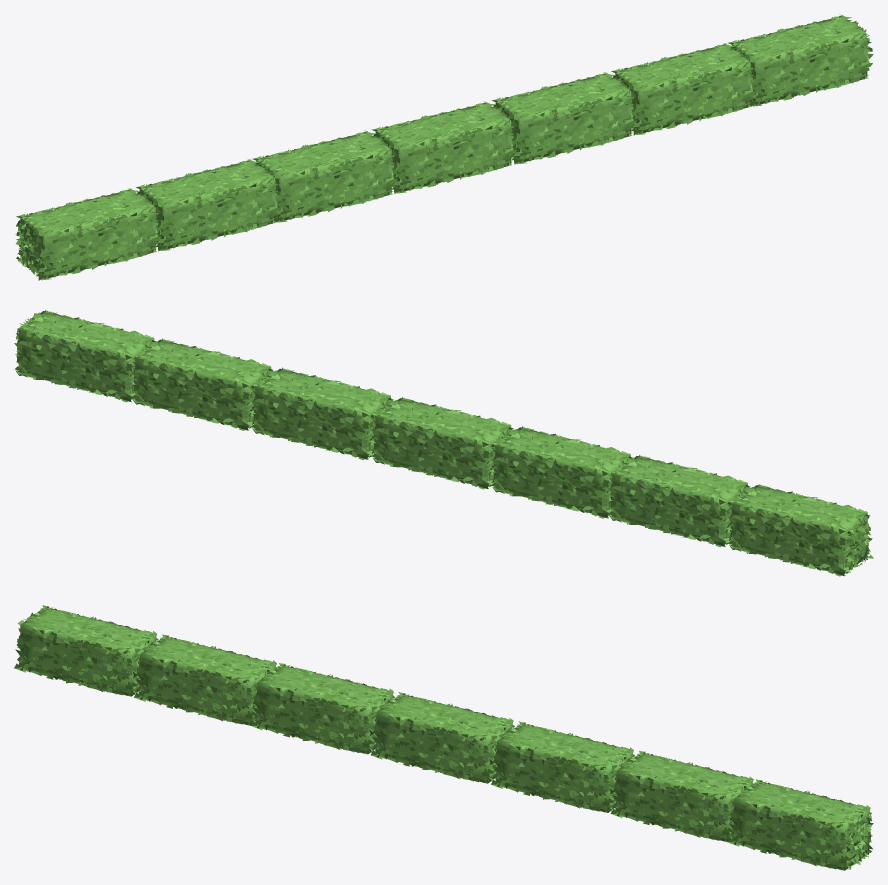
Rendered from BUSH3.fbx.
The picture shows the model from 3 angles, top to bottom: view 1: azimuth 30°, elevation 25°; view 2: azimuth 150°, elevation 25°; view 3: azimuth 330°, elevation 25°; orthographic projection.
Visible parts, largest first — view 1: Cube.094; view 2: Cube.094; view 3: Cube.094.
Part boxes in pixels (x1,y1,x2,y2): Cube.094: (14,14,873,280); Cube.094: (14,310,873,576); Cube.094: (14,605,873,870).
Bounding box in the file's own units: 25903 × 1469 × 1475.
